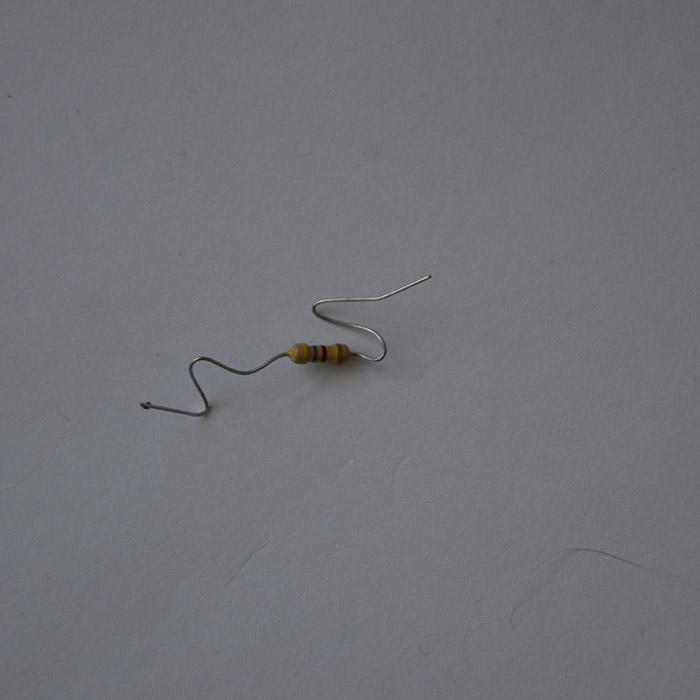resistor: (286, 342, 350, 364)
